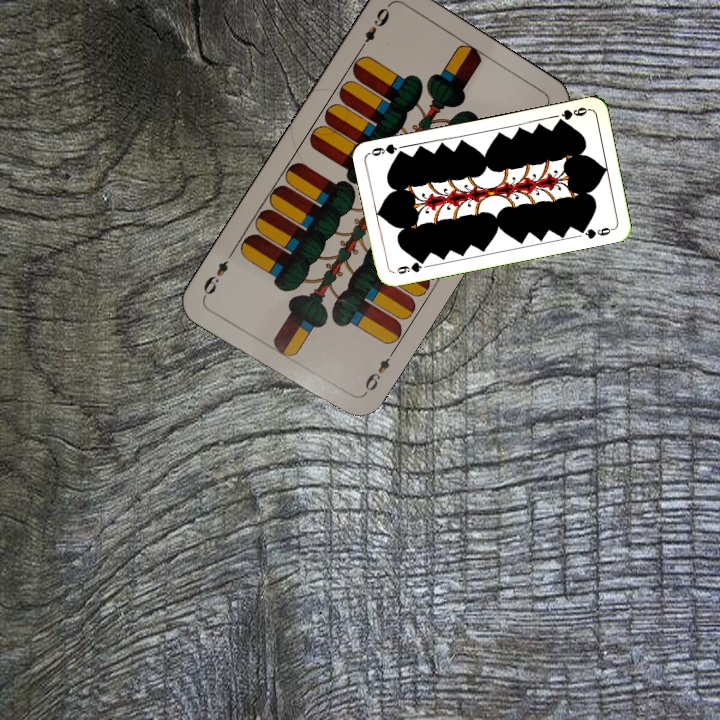E9: (357, 347, 397, 400), (355, 1, 393, 54)
G9: (553, 103, 592, 126), (390, 256, 428, 276)
